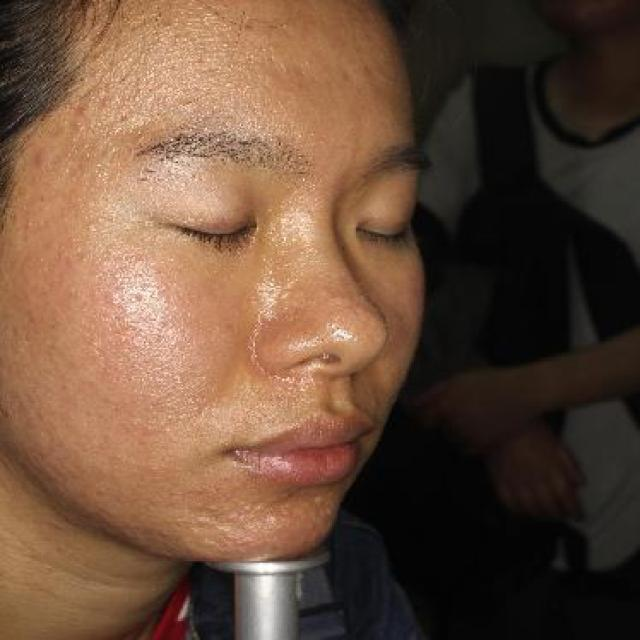Acne: (28, 146, 52, 168), (74, 100, 92, 120)
Whiteheads: (188, 54, 210, 71), (276, 15, 296, 31), (96, 96, 113, 110)
